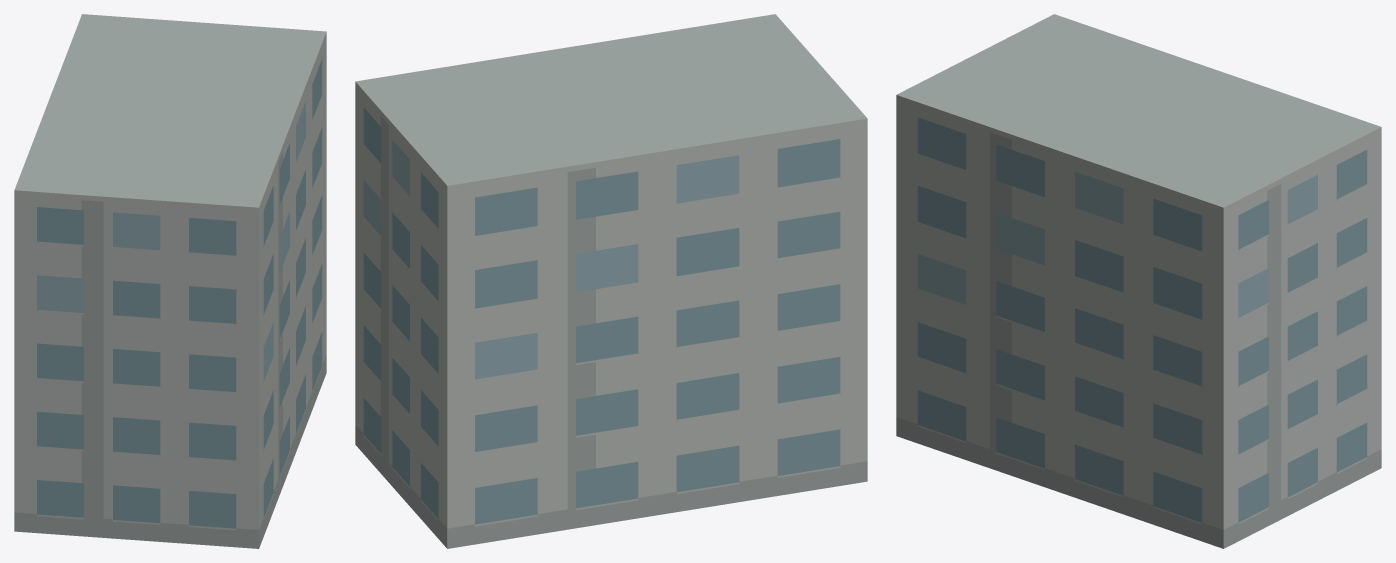
The model's file is survey-upis-32629642.glb.
3 renders of one model, left to right at view 1: azimuth 30°, elevation 25°; view 2: azimuth 150°, elevation 25°; view 3: azimuth 270°, elevation 25°, orthographic. The views are drawn at different scales.
Parts seen in each view (by area): view 1: survey-upis-32629642.tmp; view 2: survey-upis-32629642.tmp; view 3: survey-upis-32629642.tmp.
Boxes of the visible parts, x1=… form: survey-upis-32629642.tmp: x1=14, y1=14, x2=326, y2=548; survey-upis-32629642.tmp: x1=355, y1=14, x2=867, y2=548; survey-upis-32629642.tmp: x1=896, y1=14, x2=1381, y2=548.
Bounding box in the file's own units: 19.37 × 15.9 × 20.51.
